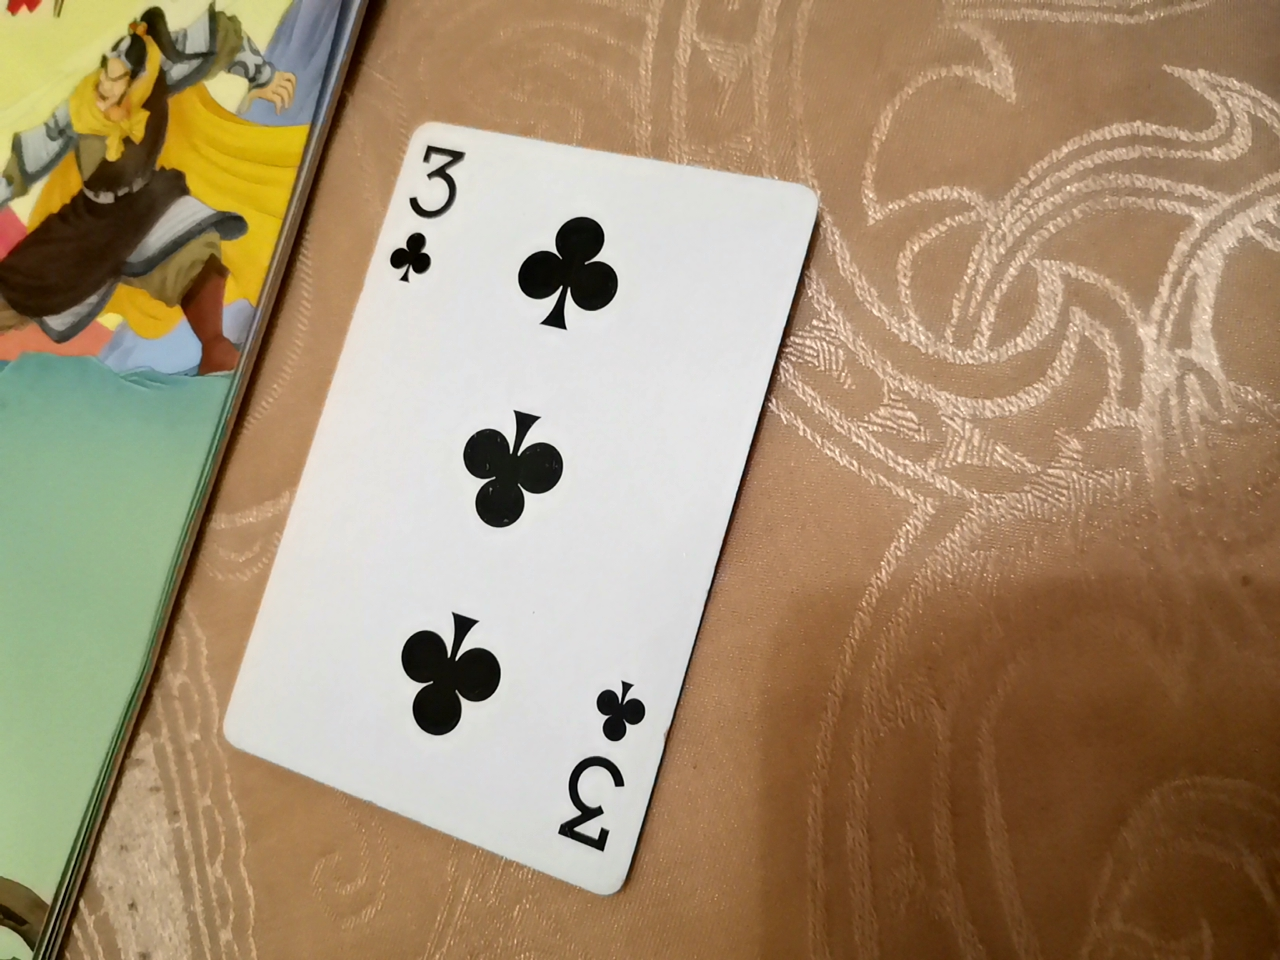mh 3: (224, 133, 815, 907)
